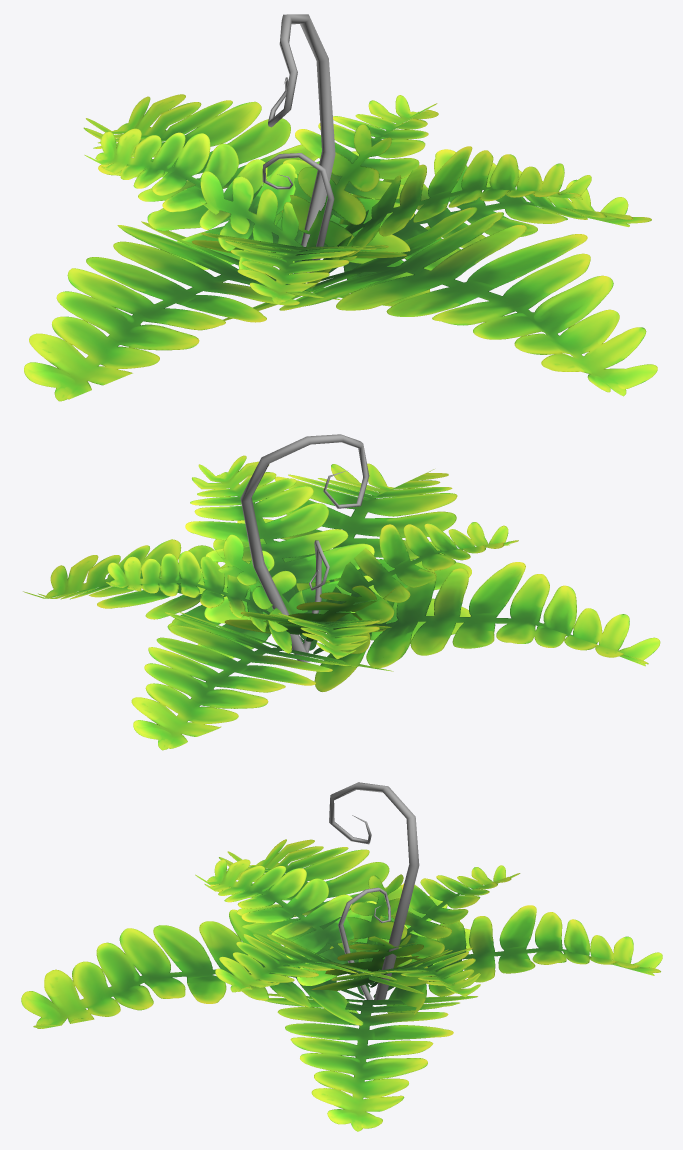
Rendered from fern.fbx.
3 renders of one model, top to bottom at view 1: azimuth 30°, elevation 25°; view 2: azimuth 150°, elevation 25°; view 3: azimuth 270°, elevation 25°, orthographic. The views are drawn at different scales.
Parts seen in each view (by area): view 1: fern; view 2: fern; view 3: fern.
Boxes of the visible parts, x1=… form: fern: x1=24, y1=14, x2=657, y2=401; fern: x1=23, y1=434, x2=660, y2=750; fern: x1=21, y1=782, x2=662, y2=1131.
Size of the model in its own units: 151 by 59.75 by 159.
